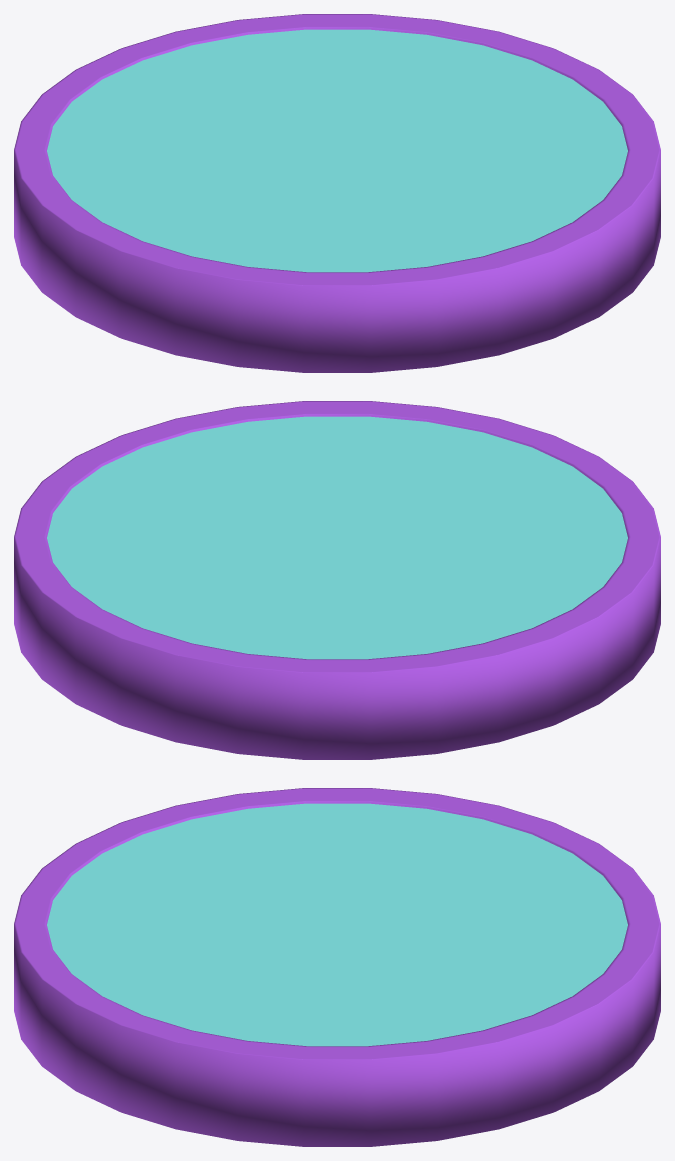
Rendered from Gate.fbx.
3 renders of one model, top to bottom at view 1: azimuth 30°, elevation 25°; view 2: azimuth 150°, elevation 25°; view 3: azimuth 270°, elevation 25°, orthographic.
Parts seen in each view (by area): view 1: CAM, GATE; view 2: CAM, GATE; view 3: CAM, GATE.
Boxes of the visible parts, x1=… form: CAM: x1=47, y1=29, x2=627, y2=272; GATE: x1=14, y1=14, x2=660, y2=372; CAM: x1=47, y1=416, x2=627, y2=659; GATE: x1=14, y1=401, x2=660, y2=759; CAM: x1=47, y1=803, x2=627, y2=1046; GATE: x1=14, y1=788, x2=660, y2=1146.
Bounding box in the file's own units: 2.88 × 0.43 × 2.9.
